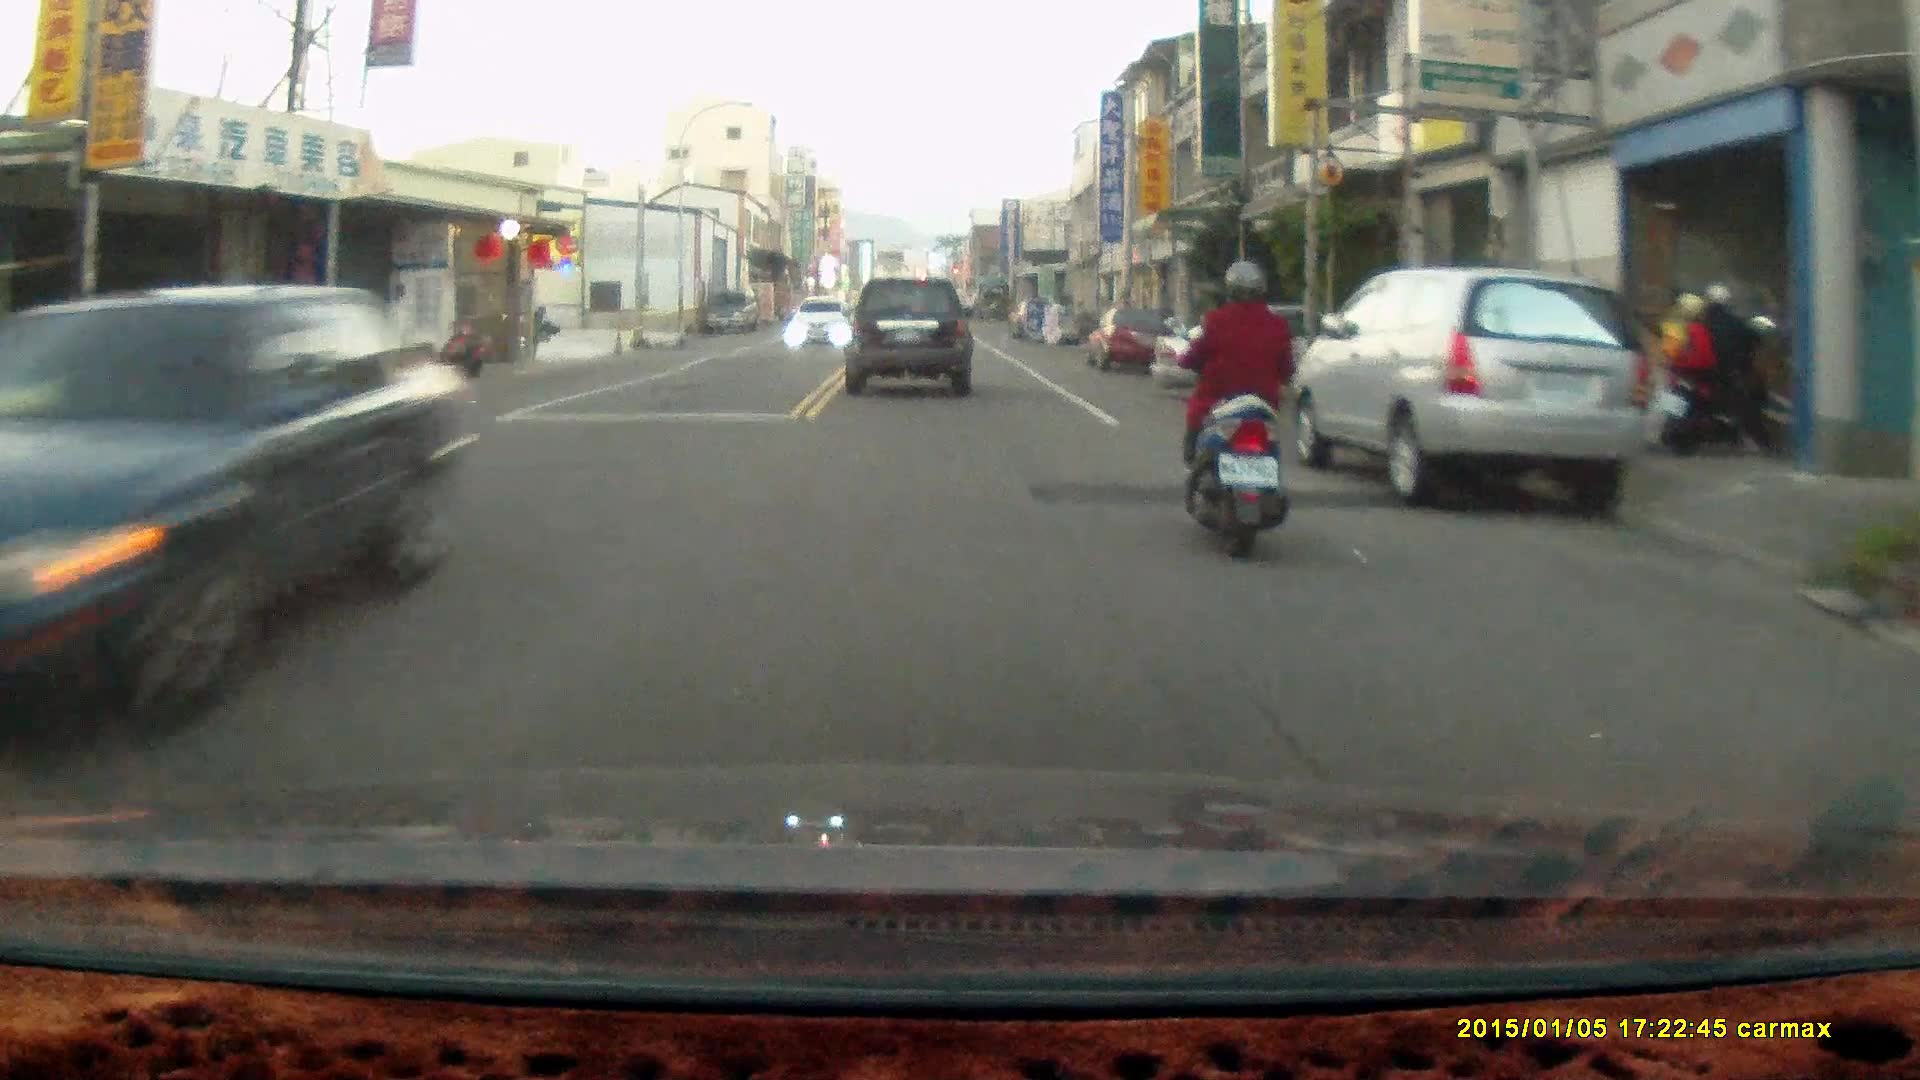rider: (1163, 254, 1293, 558), (1655, 283, 1784, 458)
vehicle: (1, 282, 480, 768), (1296, 265, 1656, 514), (845, 275, 976, 400), (1086, 307, 1178, 375), (786, 298, 848, 348)
